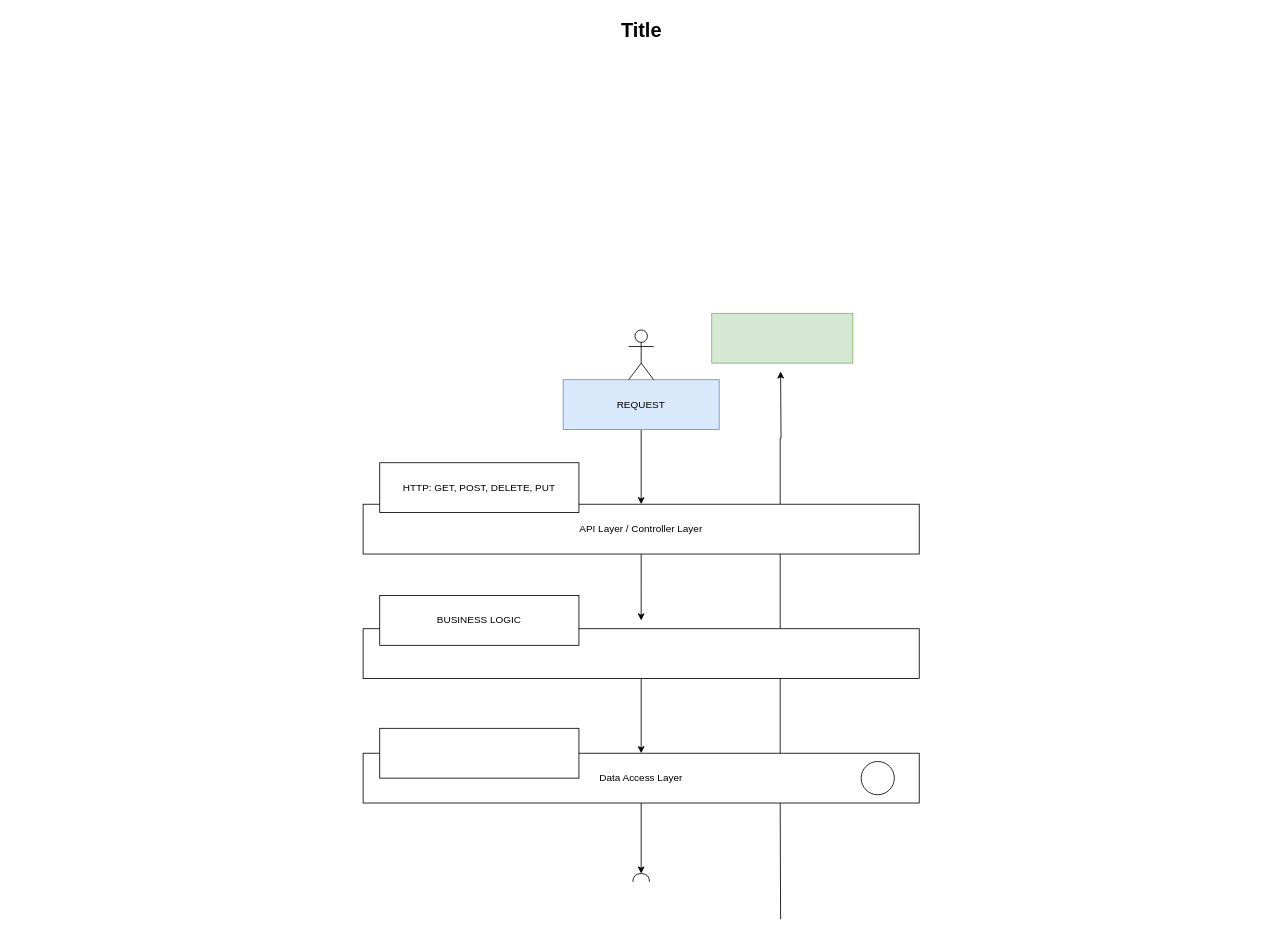
Some shapes in this 1282 by 935 pixel diagram are drawn without their labels. The shapes that lost their labels are listed below. From the top down, each one's centre as x and y in pixels, then its label:
pixel 782 337: RESPONSE
pixel 640 653: Serice Layer
pixel 479 752: DATABASE
